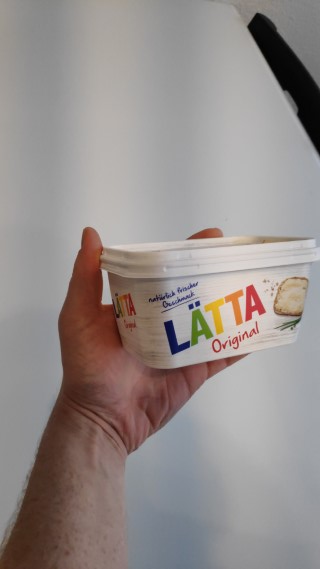laetta: (99, 234, 320, 370)
